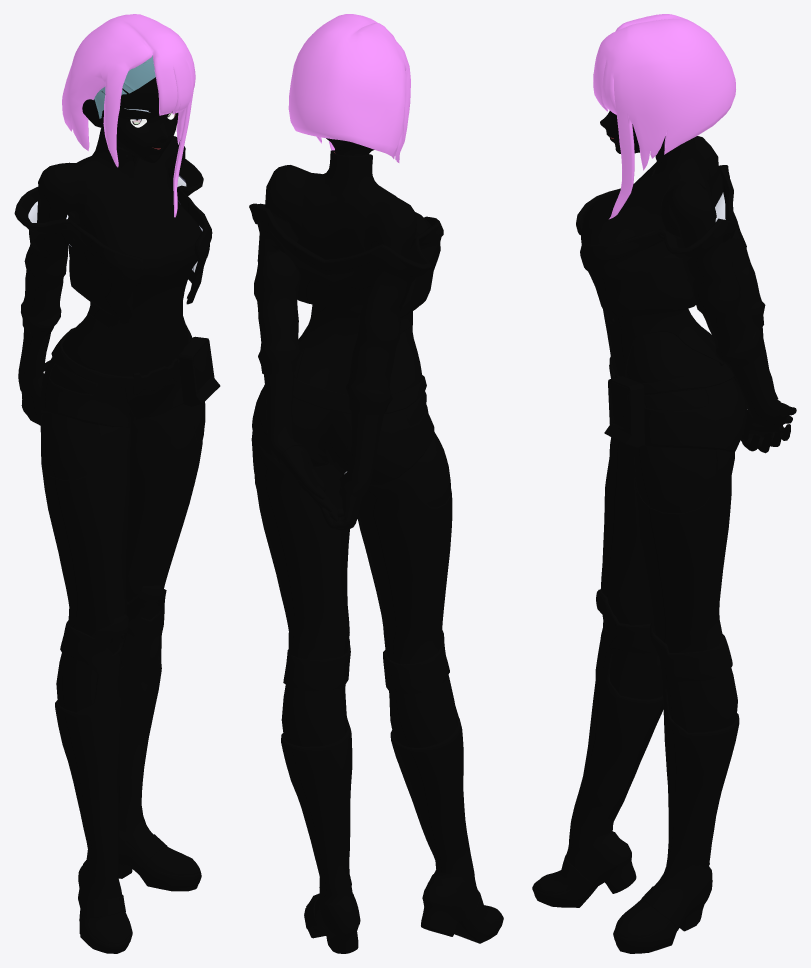
File: lucy_edgerunner.glb
3 views of the same model, side by side, from view 1: azimuth 30°, elevation 25°; view 2: azimuth 150°, elevation 25°; view 3: azimuth 270°, elevation 25° (orthographic). The views are drawn at different scales.
Visible parts, largest first — view 1: leg, boot, suit3, jacket, Hair1, Head2, shorts, leg1, shoulder1, body6, tools, arm (+6 smaller); view 2: leg, boot, jacket, suit3, Hair1, shoulder1, arm, shorts, hand, leg1, belt, body6; view 3: boot, leg, jacket, Hair1, suit3, shorts, leg1, shoulder1, body6, arm, tools, hand (+4 smaller).
Part boxes in pixels (<box>): leg: <box>40,404,202,712</box>; boot: <box>55,585,201,953</box>; suit3: <box>67,127,202,420</box>; jacket: <box>14,158,212,336</box>; Hair1: <box>62,14,195,217</box>; Head2: <box>82,77,178,178</box>; shorts: <box>40,336,188,427</box>; leg1: <box>41,401,205,479</box>; shoulder1: <box>37,136,185,224</box>; body6: <box>62,314,187,375</box>; tools: <box>178,336,220,406</box>; arm: <box>18,328,50,397</box>; leg: <box>251,431,457,747</box>; boot: <box>281,630,503,953</box>; jacket: <box>249,203,443,414</box>; suit3: <box>292,150,430,465</box>; Hair1: <box>288,14,410,162</box>; shoulder1: <box>265,165,416,258</box>; arm: <box>264,372,383,497</box>; shorts: <box>252,384,434,485</box>; hand: <box>280,446,363,530</box>; leg1: <box>412,432,451,507</box>; belt: <box>292,375,426,413</box>; body6: <box>293,319,421,394</box>; boot: <box>532,589,739,953</box>; leg: <box>601,437,737,732</box>; jacket: <box>576,165,765,368</box>; Hair1: <box>593,14,735,219</box>; suit3: <box>581,138,746,412</box>; shorts: <box>643,377,746,451</box>; leg1: <box>635,445,716,513</box>; shoulder1: <box>661,136,722,247</box>; body6: <box>626,332,720,383</box>; arm: <box>730,327,782,427</box>; tools: <box>604,376,644,447</box>; hand: <box>740,402,796,453</box>.
Bounding box in the file's own units: 0.3598 × 1.7 × 0.4457.
13 materials, 10 textured.
